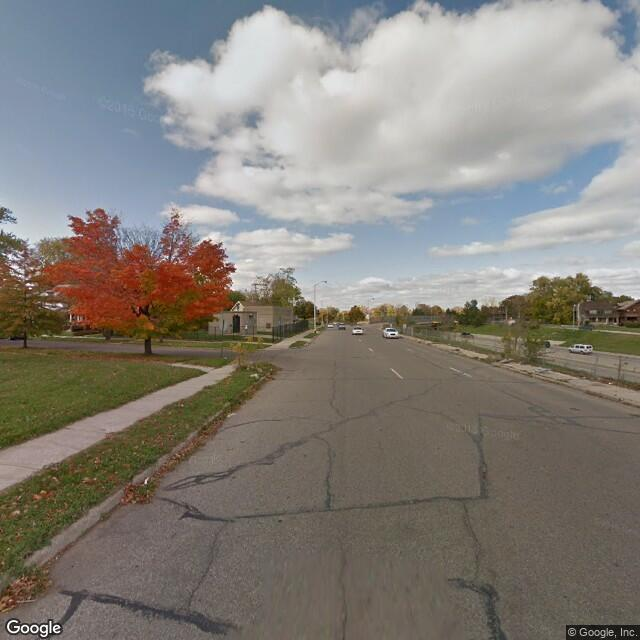litter: (248, 371, 262, 379), (225, 410, 236, 415), (144, 476, 149, 486), (607, 381, 611, 386)
